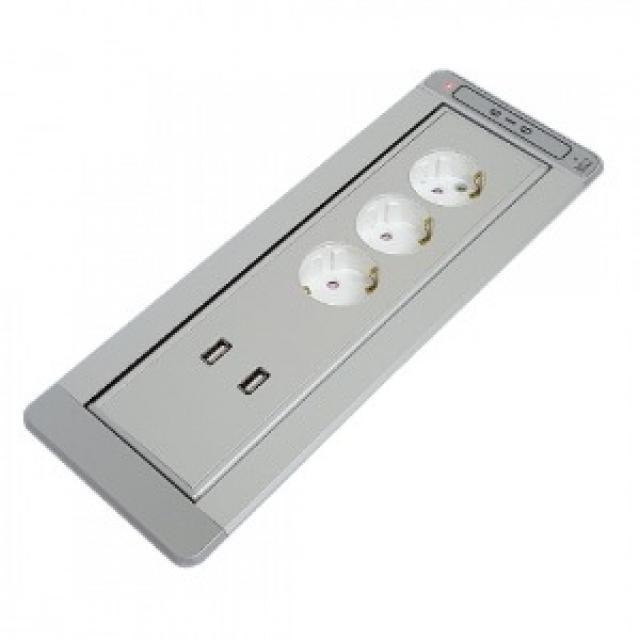typeb: (10, 67, 614, 563)
